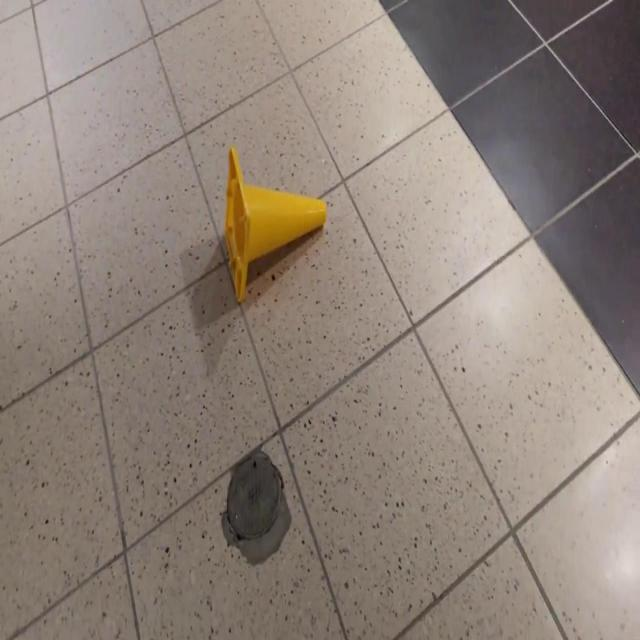frc_cone: (214, 143, 332, 317)
